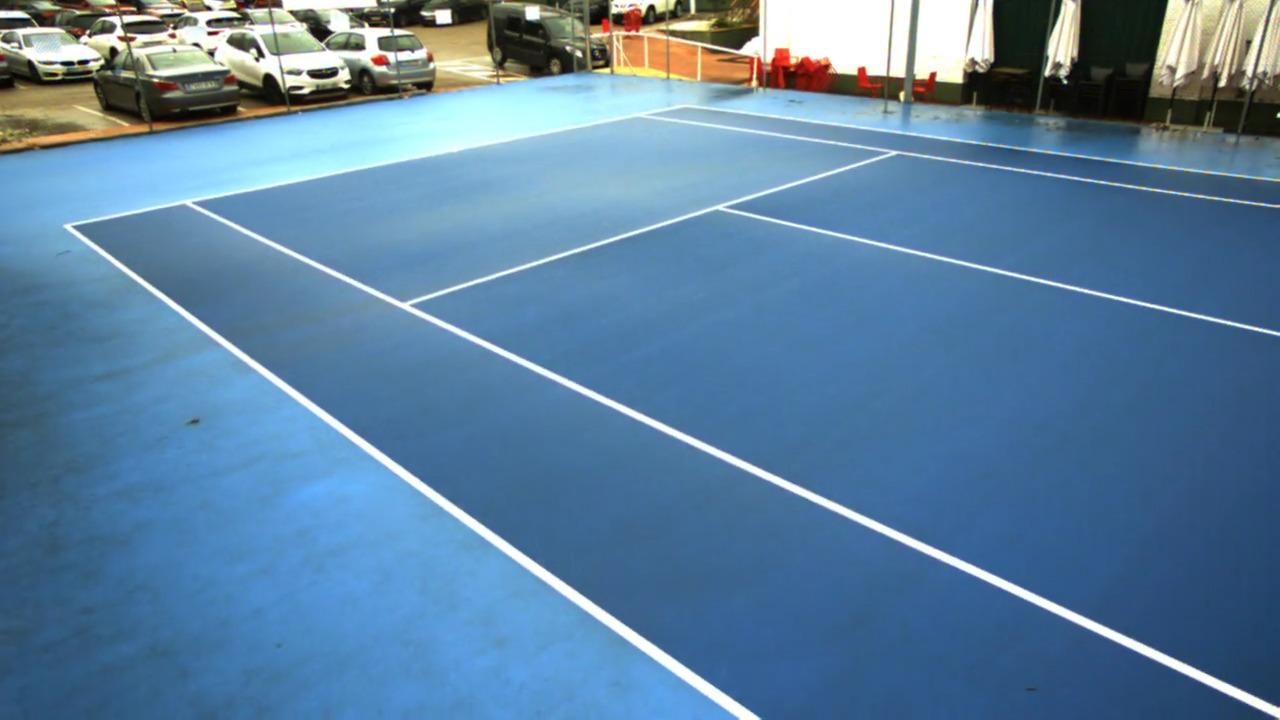cancha_tenis: (184, 112, 1280, 720)
point_f1: (178, 194, 206, 217)
point_f2: (625, 106, 655, 127)
point_fc1: (446, 142, 464, 159)
point_i1: (386, 291, 425, 315)
point_i2: (878, 144, 909, 159)
point_ic1: (707, 197, 740, 218)
